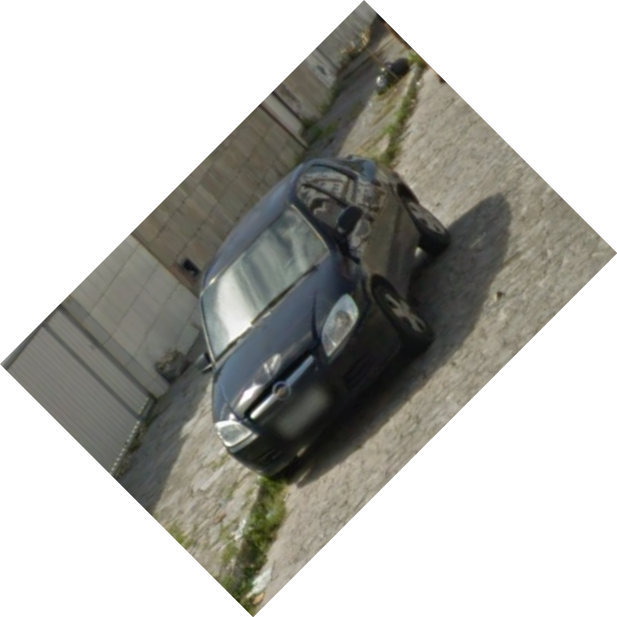car: (194, 154, 459, 484)
